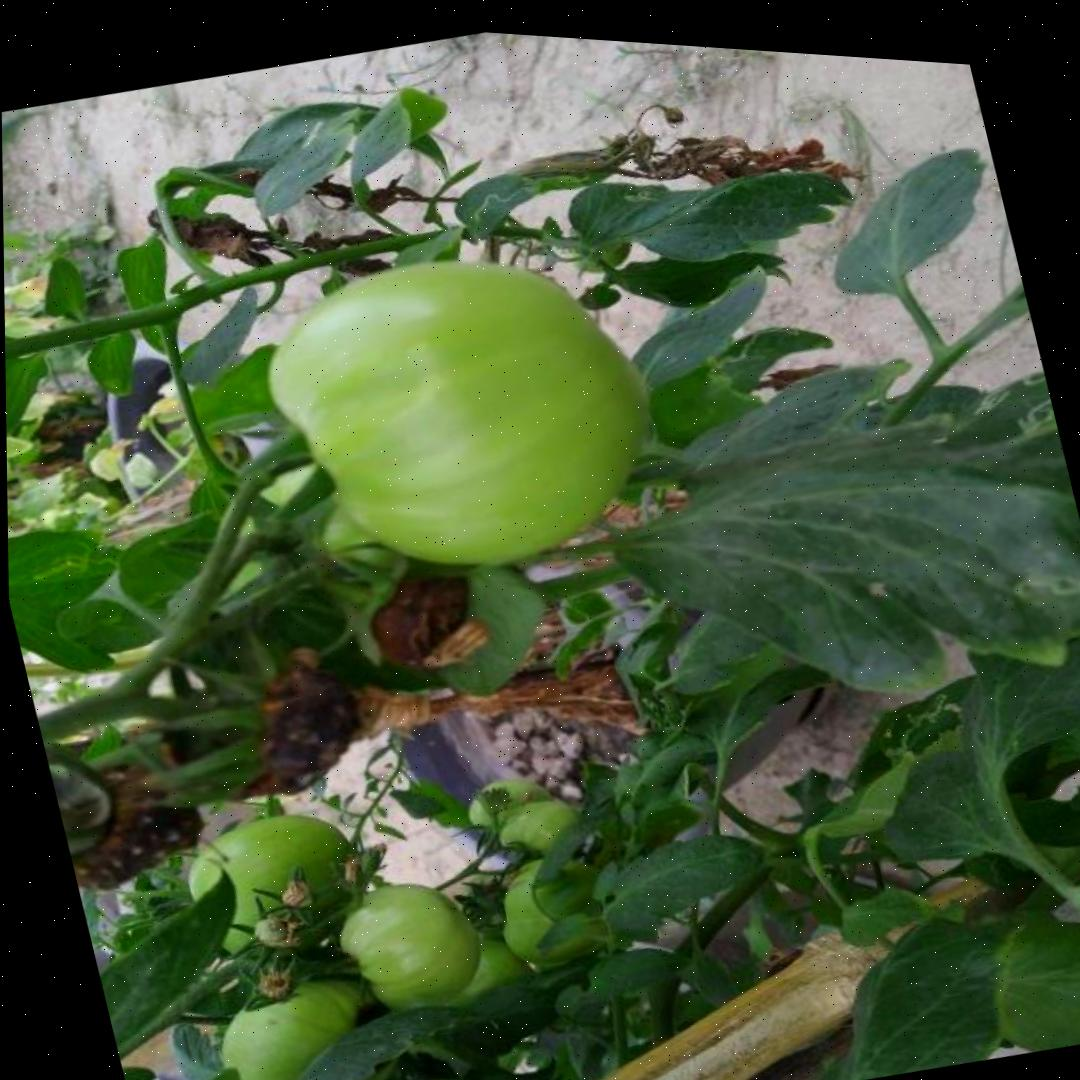mentah: (245, 204, 683, 617), (328, 864, 493, 1034), (369, 1065, 490, 1080)
